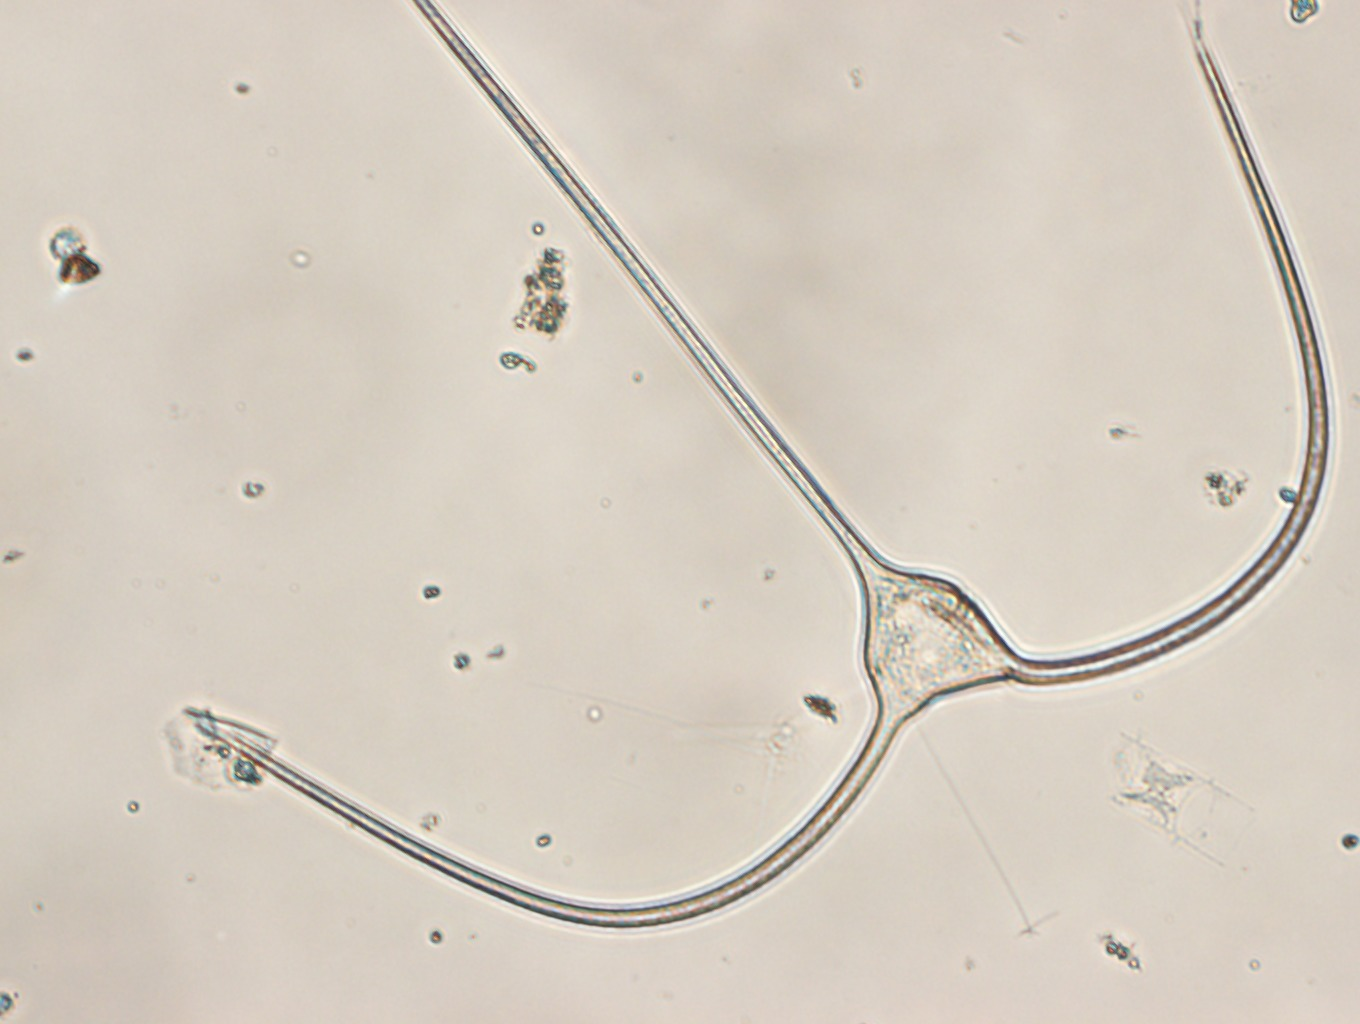ceratium trichoceros: (196, 1, 1337, 933)
